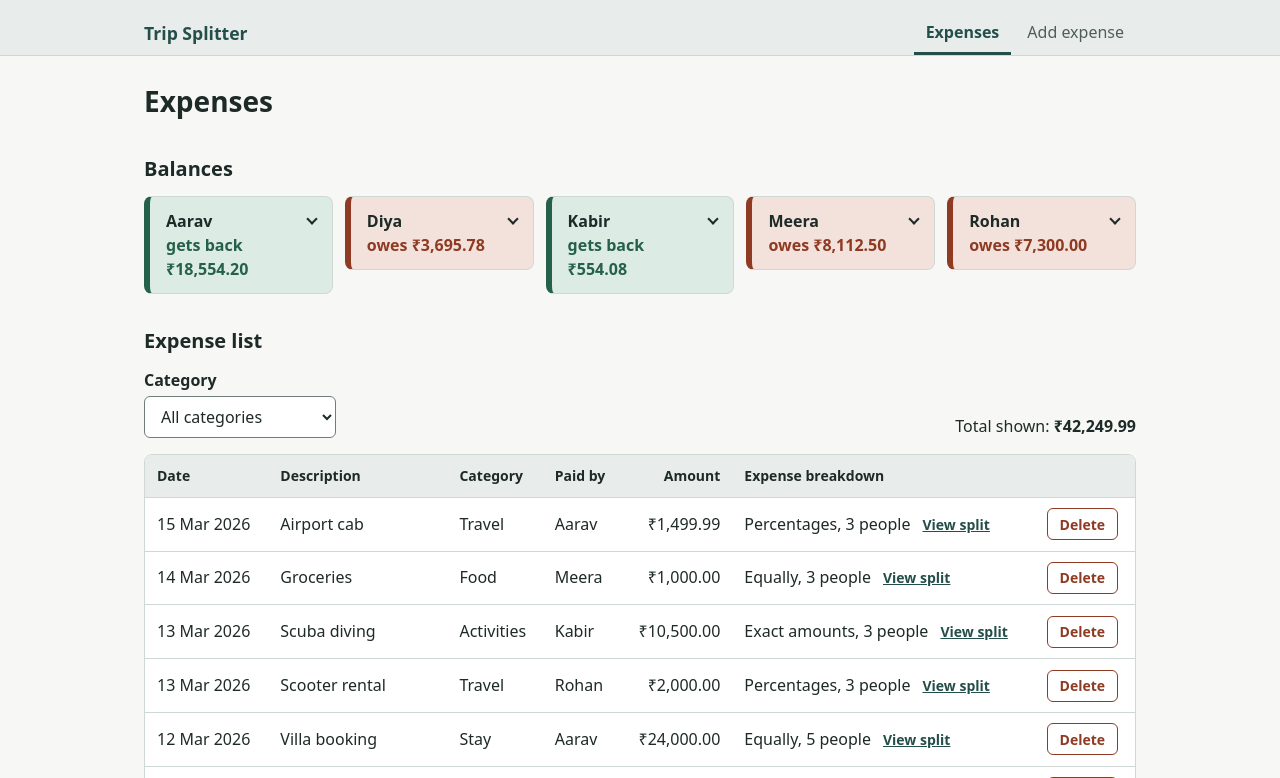
it: Split details in the table › shows each member’s percentage and amount, and hides them again
Click the button with aria-label "View split for Airport cab".
click(956, 524)  # box x1=922 y1=514 x2=990 y2=535
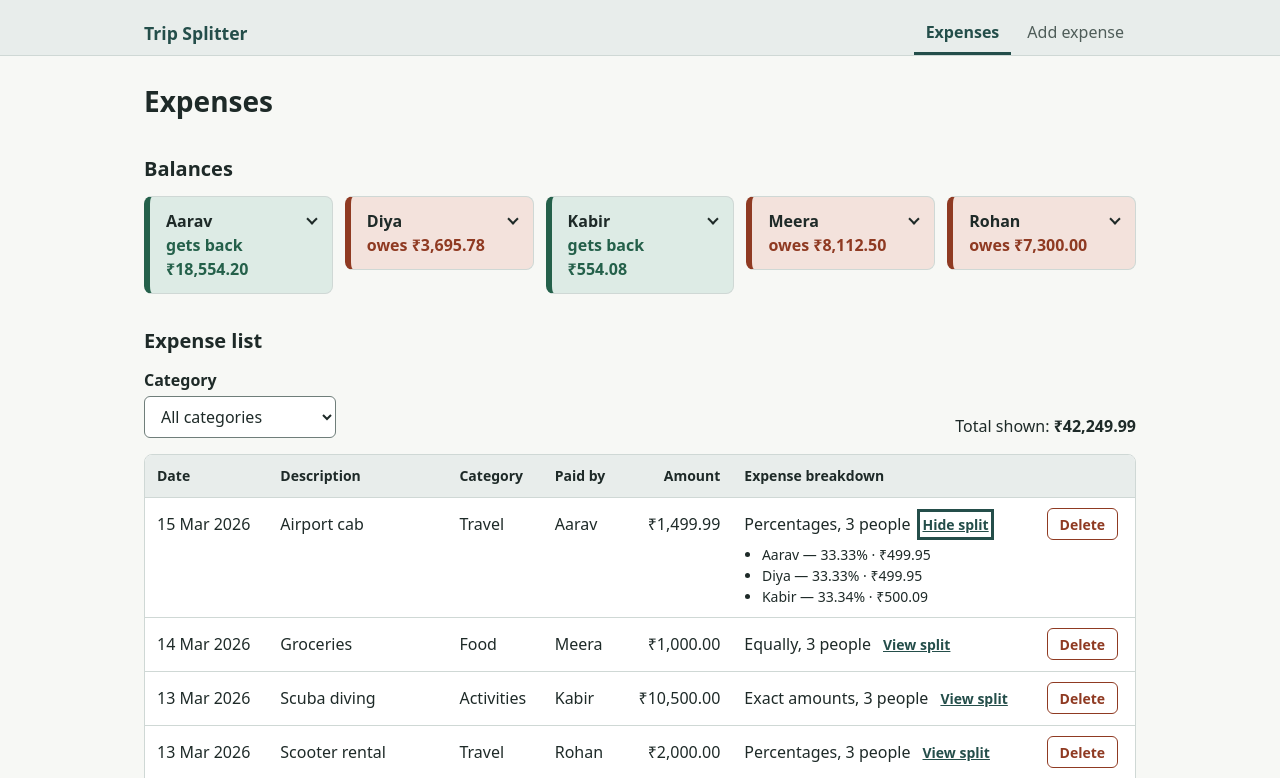
Result: the button named "View split for Airport cab" is expanded
Click the button named "View split for Airport cab".
click(956, 524)  # box x1=922 y1=514 x2=989 y2=535
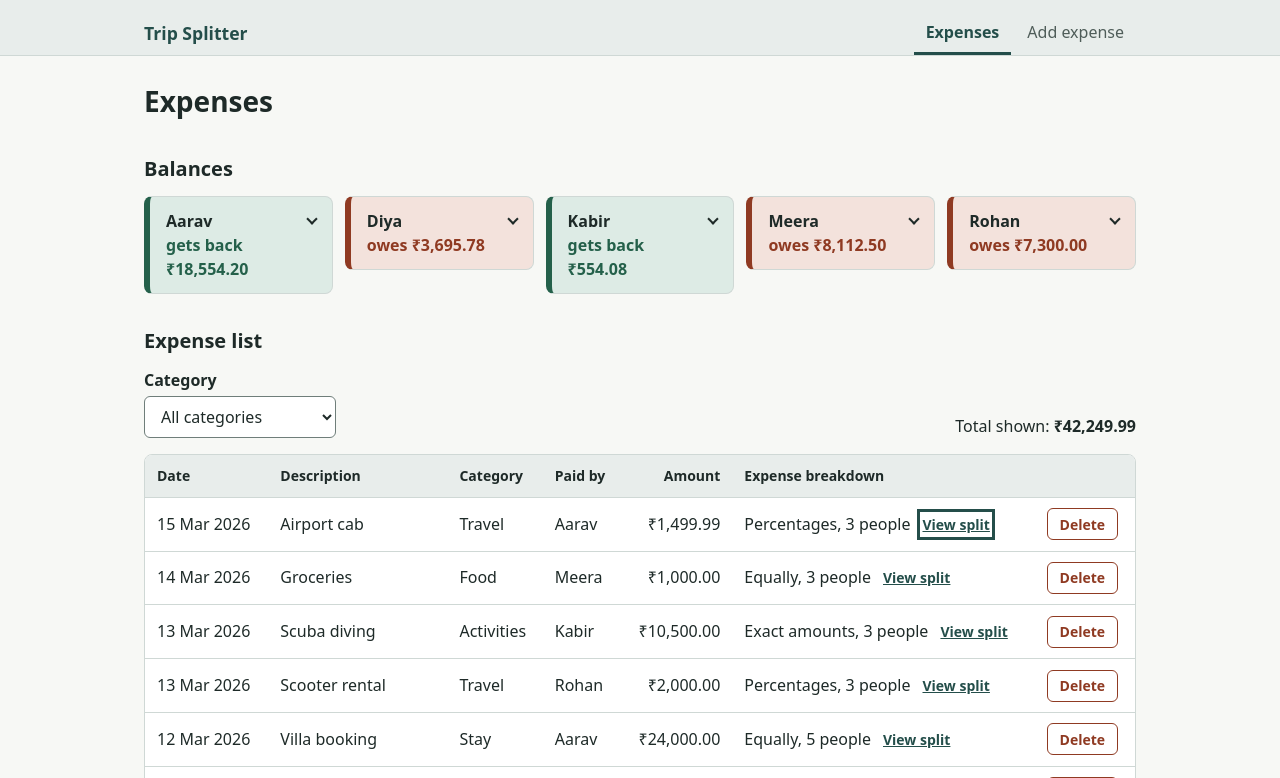
Result: the button with aria-label "View split for Airport cab" is collapsed at x1=922 y1=514 x2=990 y2=535
